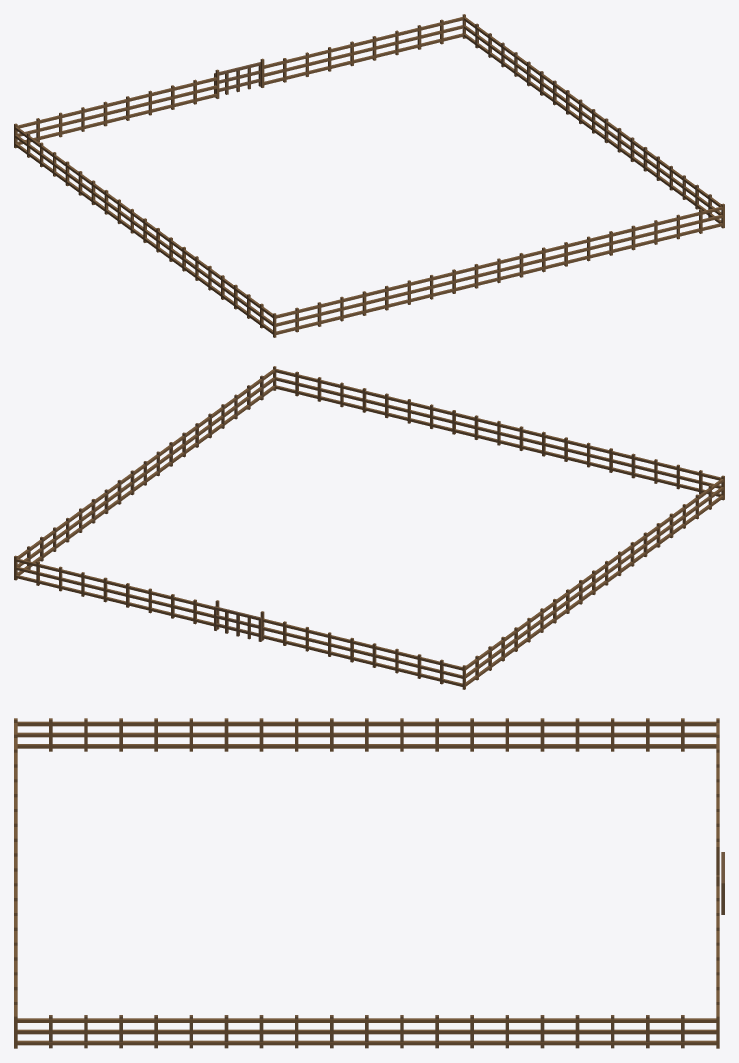
The model's file is fence.obj.
The picture shows the model from 3 angles, top to bottom: view 1: azimuth 30°, elevation 25°; view 2: azimuth 150°, elevation 25°; view 3: azimuth 270°, elevation 25°; orthographic projection. The views are drawn at different scales.
Visible parts, largest first — view 1: Cube.001_Cube.028, Cube.019, Cube.012_Cube.055; view 2: Cube.001_Cube.028, Cube.019, Cube.012_Cube.055; view 3: Cube.001_Cube.028, Cube.019.
Boxes of the visible parts, x1,y1,x2,y2 form: Cube.001_Cube.028: (14,14,724,337); Cube.019: (475,23,711,217); Cube.012_Cube.055: (214,62,260,97); Cube.001_Cube.028: (14,366,724,689); Cube.019: (27,375,263,569); Cube.012_Cube.055: (214,606,262,641); Cube.001_Cube.028: (14,718,719,1048); Cube.019: (49,1015,684,1048).
Bounding box in the file's own units: 40.2 × 2.4 × 40.5.
